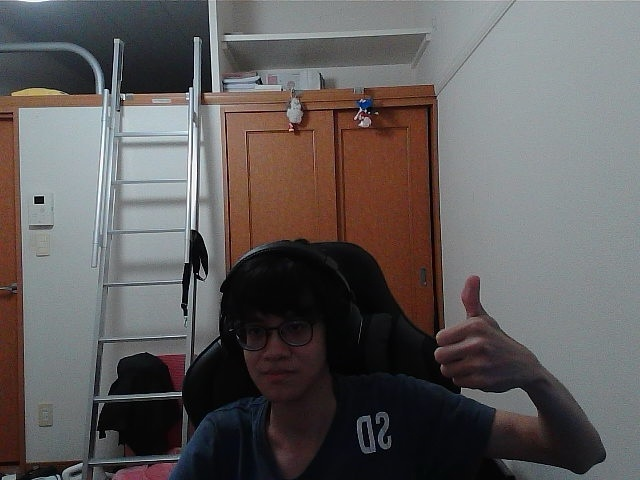thumb_up: (440, 281, 525, 382)
